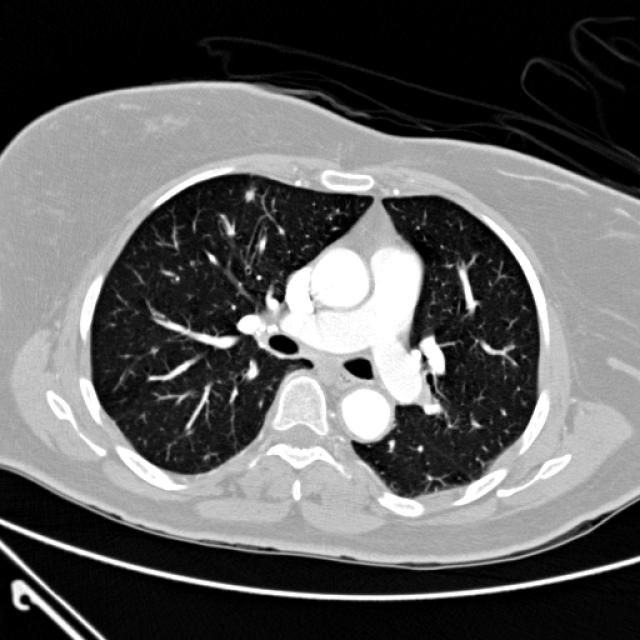nodule: (234, 180, 264, 210)
